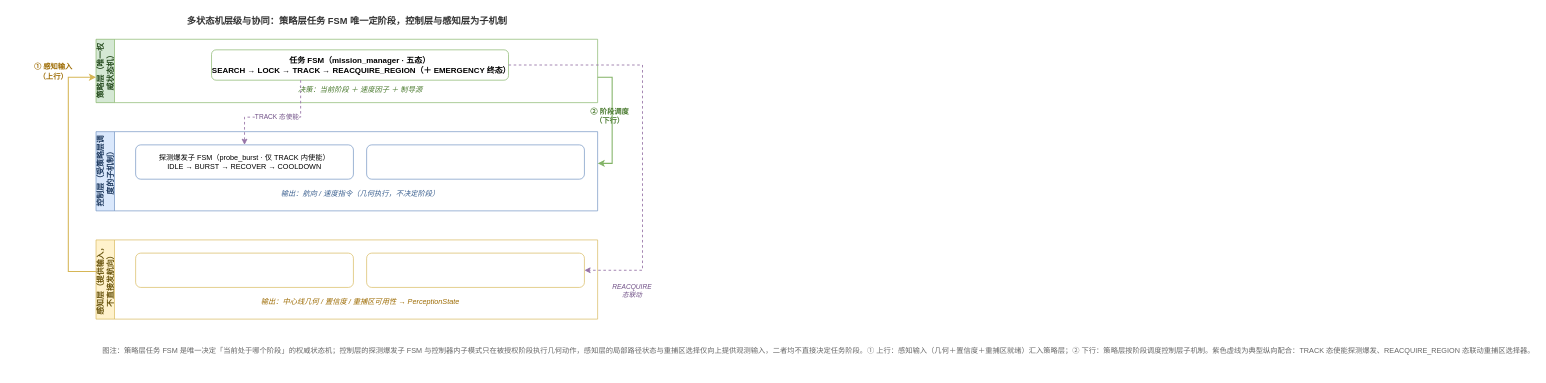
Image size: 1546x383. Some labels were removed from this diagram. The shapes that lost their labels are listed below. From the top down, each one's centre as x and y in pixels, then its label:
[475,161]: 控制器内子模式（无名） 翻腿 · 解耦横向 · 磁穿越探测 · 前视追踪
[244,269]: 局部路径状态（local_path） COLLECTING · LINE · CURVE · REACQUIRE
[475,269]: 重捕区选择（ObservableRegionSelector） 有界候选 ＋ 打分
